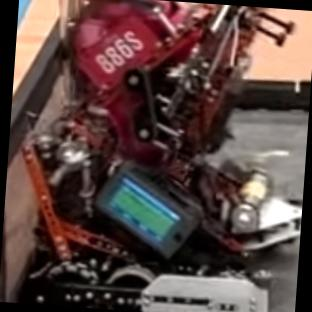Robot: (22, 0, 300, 312)
